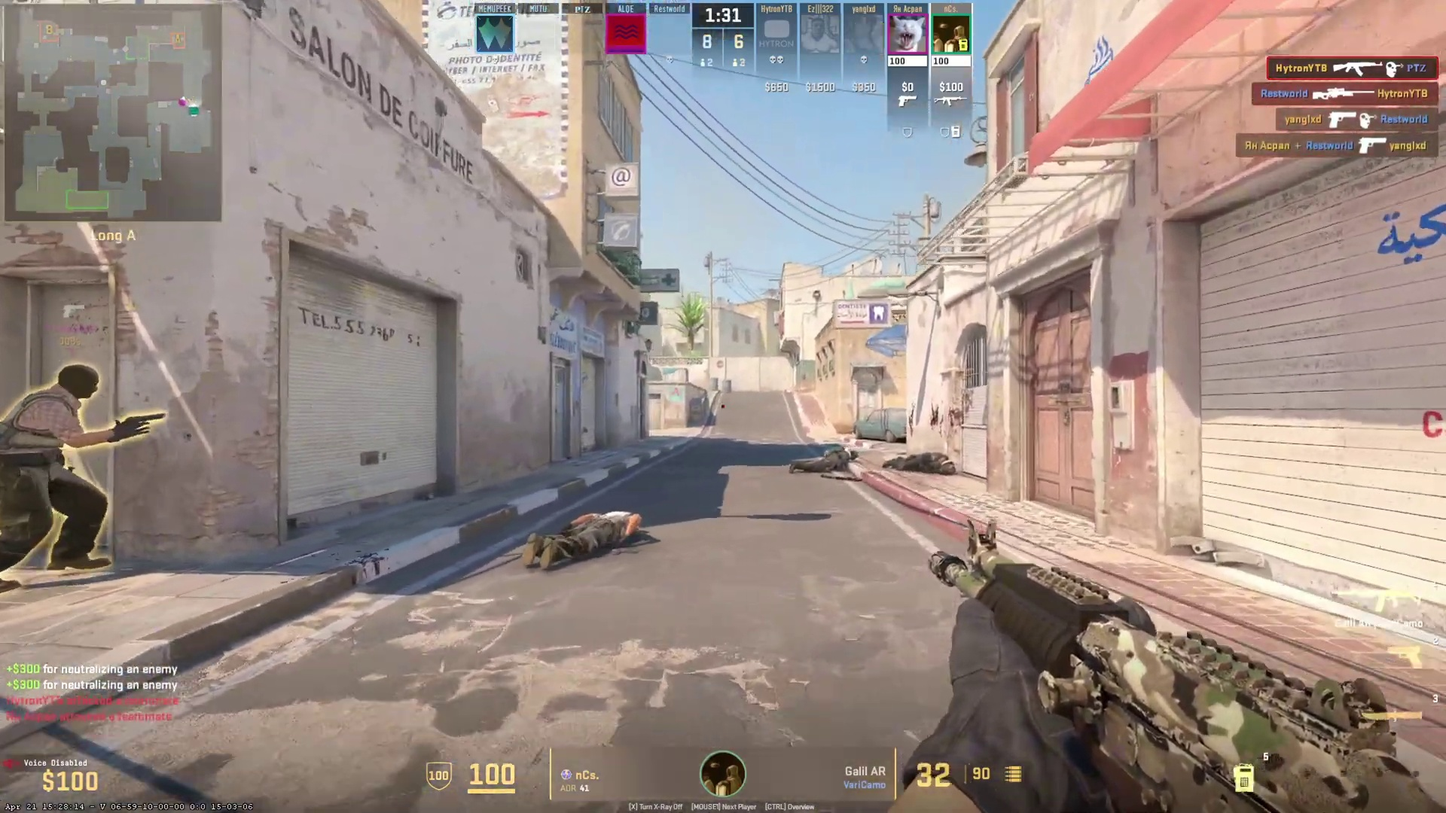Terrorist: (0, 364, 106, 587)
